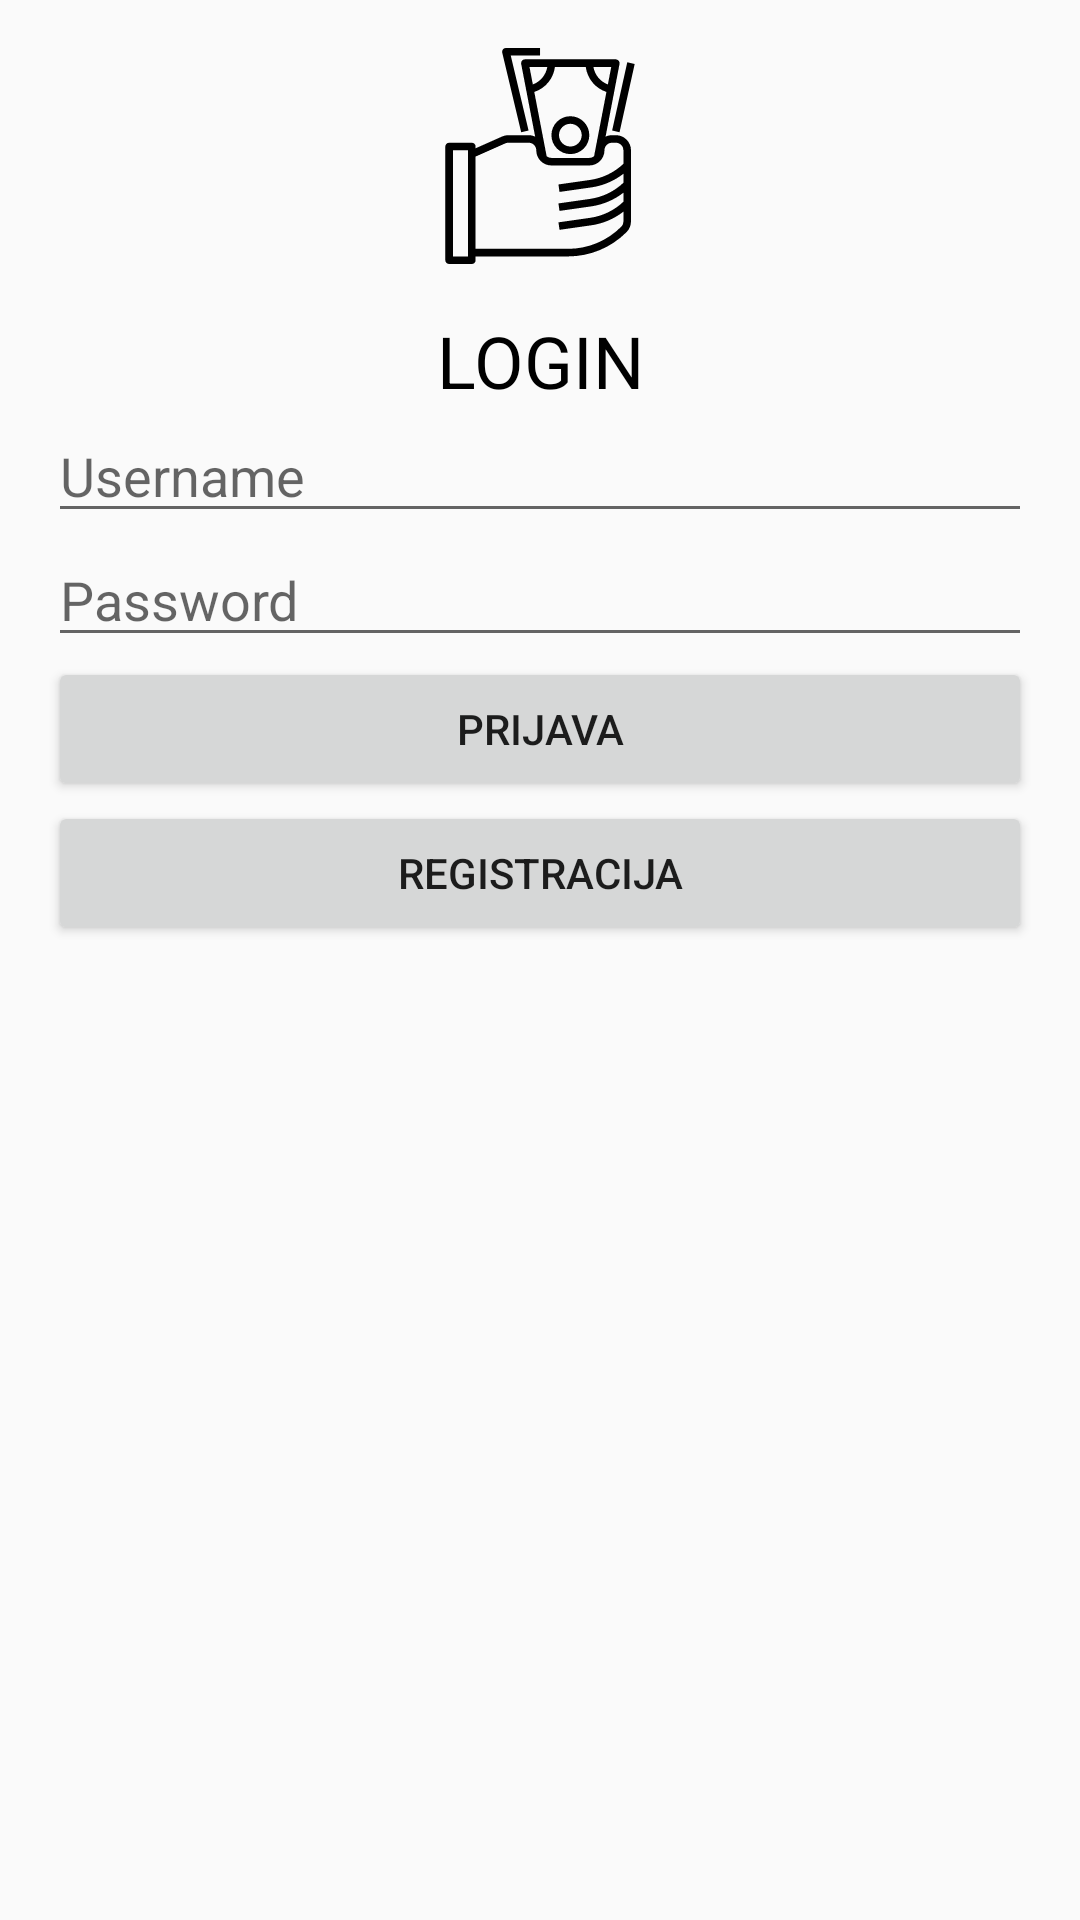

Screen size 1080x1920. Icon name, then its box in pixels as box=[x1, y1, x2, y2]:
investment: box=[445, 48, 635, 264]
